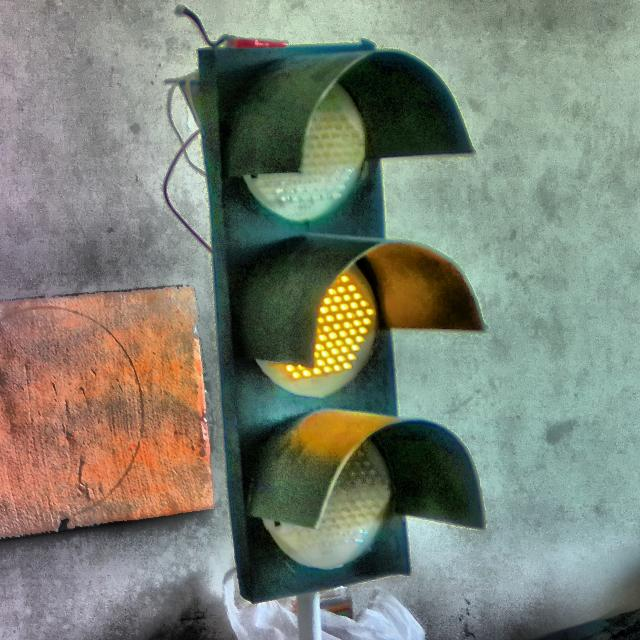yellow: (195, 46, 489, 597)
